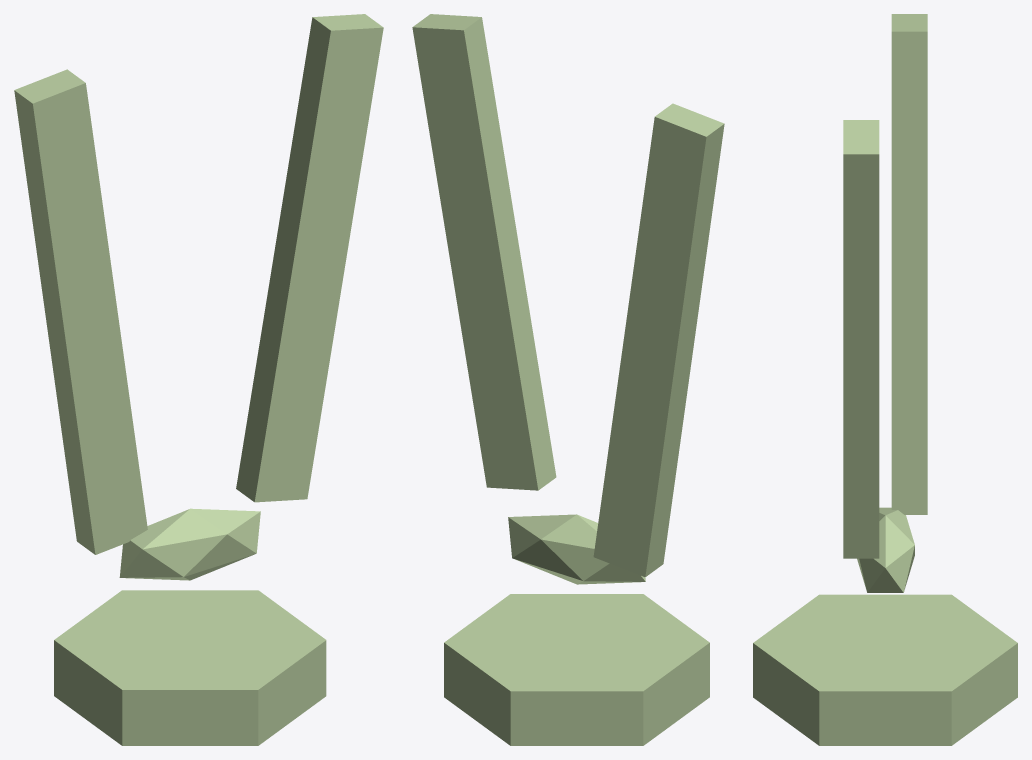
The model's file is COASTAL_GRASS_TUSSOCK_001_LOD_MAP.glb.
The picture shows the model from 3 angles, left to right: view 1: azimuth 30°, elevation 25°; view 2: azimuth 150°, elevation 25°; view 3: azimuth 270°, elevation 25°; orthographic projection. The views are drawn at different scales.
Visible parts, largest first — view 1: COASTAL_GRASS_TUSSOCK_001_LOD_MAP_GROUND_SOCKET, COASTAL_GRASS_TUSSOCK_001_LOD_MAP_BLADE_MAP_002, COASTAL_GRASS_TUSSOCK_001_LOD_MAP_BLADE_MAP_001, COASTAL_GRASS_TUSSOCK_001_LOD_MAP_TUFT_001; view 2: COASTAL_GRASS_TUSSOCK_001_LOD_MAP_GROUND_SOCKET, COASTAL_GRASS_TUSSOCK_001_LOD_MAP_BLADE_MAP_002, COASTAL_GRASS_TUSSOCK_001_LOD_MAP_BLADE_MAP_001, COASTAL_GRASS_TUSSOCK_001_LOD_MAP_TUFT_001; view 3: COASTAL_GRASS_TUSSOCK_001_LOD_MAP_GROUND_SOCKET, COASTAL_GRASS_TUSSOCK_001_LOD_MAP_BLADE_MAP_001, COASTAL_GRASS_TUSSOCK_001_LOD_MAP_BLADE_MAP_002, COASTAL_GRASS_TUSSOCK_001_LOD_MAP_TUFT_001.
Boxes of the visible parts, box(x1,y1,x2,y2) form: COASTAL_GRASS_TUSSOCK_001_LOD_MAP_GROUND_SOCKET: box(54, 590, 326, 745); COASTAL_GRASS_TUSSOCK_001_LOD_MAP_BLADE_MAP_002: box(236, 14, 383, 502); COASTAL_GRASS_TUSSOCK_001_LOD_MAP_BLADE_MAP_001: box(14, 69, 147, 554); COASTAL_GRASS_TUSSOCK_001_LOD_MAP_TUFT_001: box(119, 508, 260, 580); COASTAL_GRASS_TUSSOCK_001_LOD_MAP_GROUND_SOCKET: box(444, 594, 709, 745); COASTAL_GRASS_TUSSOCK_001_LOD_MAP_BLADE_MAP_002: box(412, 14, 556, 490); COASTAL_GRASS_TUSSOCK_001_LOD_MAP_BLADE_MAP_001: box(593, 103, 724, 577); COASTAL_GRASS_TUSSOCK_001_LOD_MAP_TUFT_001: box(508, 514, 645, 584); COASTAL_GRASS_TUSSOCK_001_LOD_MAP_GROUND_SOCKET: box(753, 594, 1017, 745); COASTAL_GRASS_TUSSOCK_001_LOD_MAP_BLADE_MAP_001: box(891, 14, 927, 514); COASTAL_GRASS_TUSSOCK_001_LOD_MAP_BLADE_MAP_002: box(843, 120, 879, 558); COASTAL_GRASS_TUSSOCK_001_LOD_MAP_TUFT_001: box(857, 507, 914, 592).
Bounding box in the file's own units: 0.6084 × 1.17 × 0.44.
